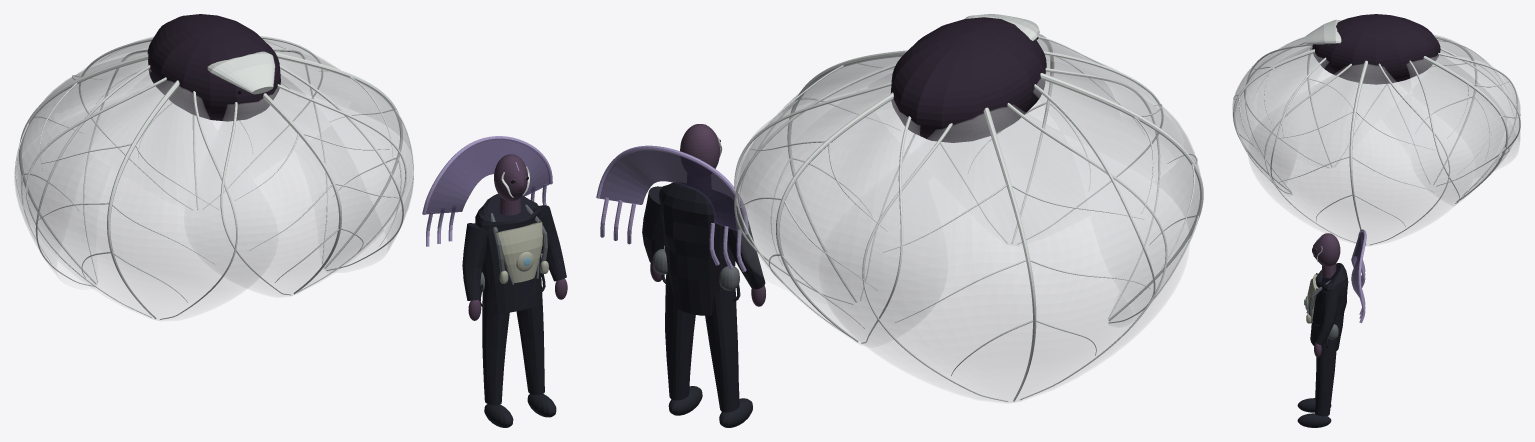
The model's file is LivingVeil.obj.
3 renders of one model, left to right at view 1: azimuth 30°, elevation 25°; view 2: azimuth 150°, elevation 25°; view 3: azimuth 270°, elevation 25°, orthographic. The views are drawn at different scales.
Parts seen in each view (by area): view 1: Olyra_Lobe_4, Olyra_Lobe_0, Olyra_Lobe_3, Olyra_Lobe_1, Olyra_Core, Avarin_CrescentMantle, Avarin_Torso, Avarin_Leg_L, Avarin_Leg_R, Olyra_SensoryCrest, Olyra_Lobe_2, Avarin_ChestProtection (+16 smaller); view 2: Olyra_Lobe_3, Olyra_Lobe_2, Olyra_Lobe_4, Olyra_Core, Olyra_Lobe_1, Avarin_Torso, Olyra_Lobe_0, Avarin_CrescentMantle, Avarin_Leg_L, Avarin_Leg_R, Olyra_Rib_4_1, Olyra_Rib_2_1 (+18 smaller); view 3: Olyra_Lobe_1, Olyra_Lobe_2, Olyra_Lobe_0, Olyra_Core, Olyra_Lobe_3, Olyra_Lobe_4, Avarin_Torso, Avarin_Leg_R, Avarin_Arm_R, Avarin_Head, Olyra_SensoryCrest, Olyra_Rib_2_1 (+14 smaller).
Part boxes in pixels (left/top/right/bottom): Olyra_Lobe_4: left=17, top=80, right=276, bottom=320; Olyra_Lobe_0: left=187, top=87, right=412, bottom=296; Olyra_Lobe_3: left=14, top=52, right=151, bottom=287; Olyra_Lobe_1: left=274, top=51, right=413, bottom=271; Olyra_Core: left=147, top=14, right=280, bottom=121; Avarin_CrescentMantle: left=426, top=139, right=550, bottom=214; Avarin_Torso: left=475, top=194, right=542, bottom=314; Avarin_Leg_L: left=482, top=279, right=509, bottom=405; Avarin_Leg_R: left=516, top=270, right=544, bottom=394; Olyra_SensoryCrest: left=207, top=51, right=275, bottom=94; Olyra_Lobe_2: left=80, top=36, right=336, bottom=143; Avarin_ChestProtection: left=496, top=222, right=542, bottom=282; Olyra_Lobe_3: left=819, top=104, right=1189, bottom=403; Olyra_Lobe_2: left=735, top=85, right=947, bottom=344; Olyra_Lobe_4: left=1033, top=71, right=1201, bottom=324; Olyra_Core: left=890, top=17, right=1046, bottom=142; Olyra_Lobe_1: left=735, top=56, right=925, bottom=281; Avarin_Torso: left=659, top=182, right=735, bottom=315; Olyra_Lobe_0: left=881, top=38, right=1159, bottom=245; Avarin_CrescentMantle: left=599, top=150, right=744, bottom=232; Avarin_Leg_L: left=705, top=287, right=739, bottom=412; Avarin_Leg_R: left=665, top=271, right=695, bottom=400; Olyra_Rib_4_1: left=1040, top=73, right=1203, bottom=321; Olyra_Rib_2_1: left=776, top=92, right=893, bottom=342; Olyra_Lobe_1: left=1248, top=64, right=1474, bottom=245; Olyra_Lobe_2: left=1407, top=55, right=1520, bottom=202; Olyra_Lobe_0: left=1232, top=45, right=1328, bottom=192; Olyra_Core: left=1312, top=14, right=1440, bottom=84; Olyra_Lobe_3: left=1398, top=38, right=1520, bottom=165; Olyra_Lobe_4: left=1249, top=36, right=1410, bottom=167; Avarin_Torso: left=1310, top=263, right=1348, bottom=350; Avarin_Leg_R: left=1315, top=324, right=1336, bottom=416; Avarin_Arm_R: left=1315, top=291, right=1340, bottom=345; Avarin_Head: left=1312, top=233, right=1340, bottom=266; Olyra_SensoryCrest: left=1305, top=19, right=1341, bottom=44; Olyra_Rib_2_1: left=1423, top=56, right=1508, bottom=202.
Bounding box in the file's own units: 3.72 × 3.01 × 2.56.
Materials: 12 (1 with a texture image).
